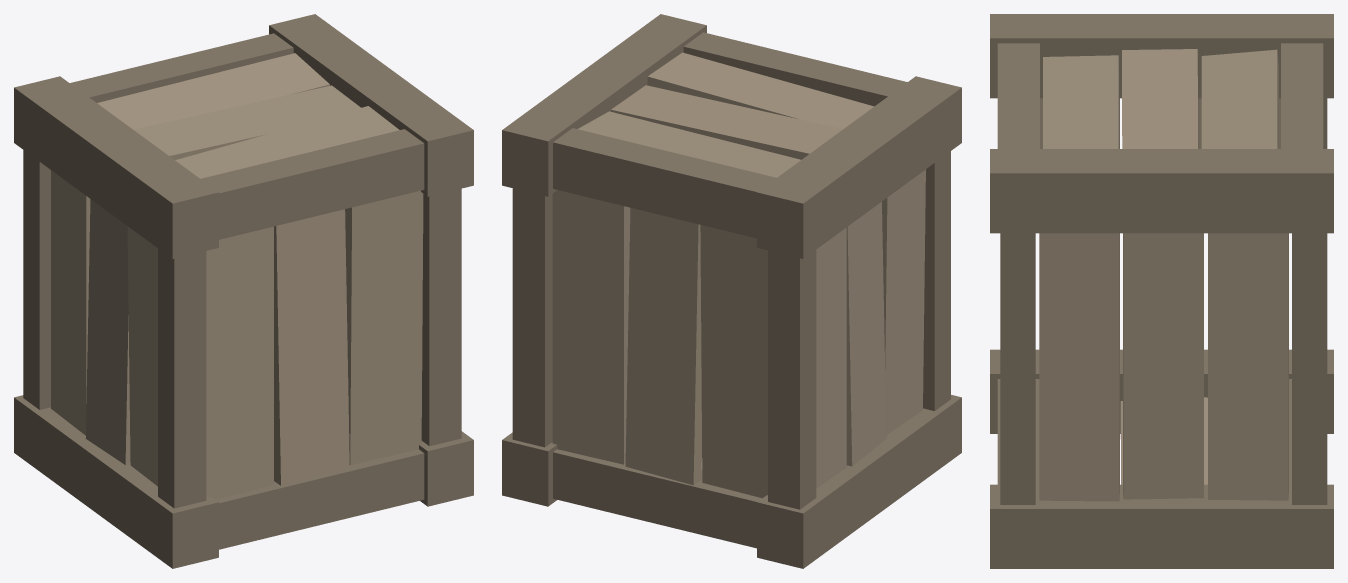
Rendered from box_wooden_1.fbx.
3 renders of one model, left to right at view 1: azimuth 30°, elevation 25°; view 2: azimuth 150°, elevation 25°; view 3: azimuth 270°, elevation 25°, orthographic. The views are drawn at different scales.
Visible parts, largest first — view 1: box_wooden_1; view 2: box_wooden_1; view 3: box_wooden_1.
Boxes of the visible parts, x1=… form: box_wooden_1: x1=14, y1=14, x2=473, y2=568; box_wooden_1: x1=502, y1=14, x2=961, y2=568; box_wooden_1: x1=990, y1=14, x2=1333, y2=568.
Bounding box in the file's own units: 152 × 176 × 138.
